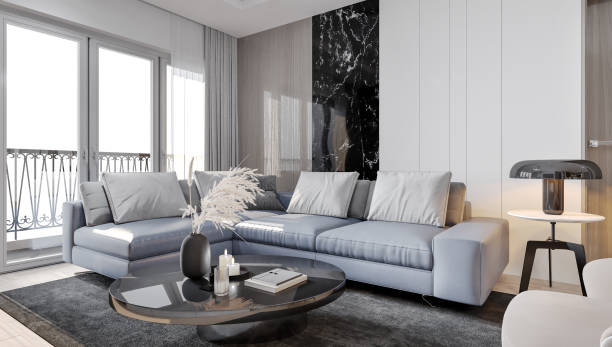floor lamp: (507, 158, 606, 293)
flower vase: (177, 163, 265, 279)
sofa: (60, 166, 511, 309)
table: (106, 251, 349, 343)
